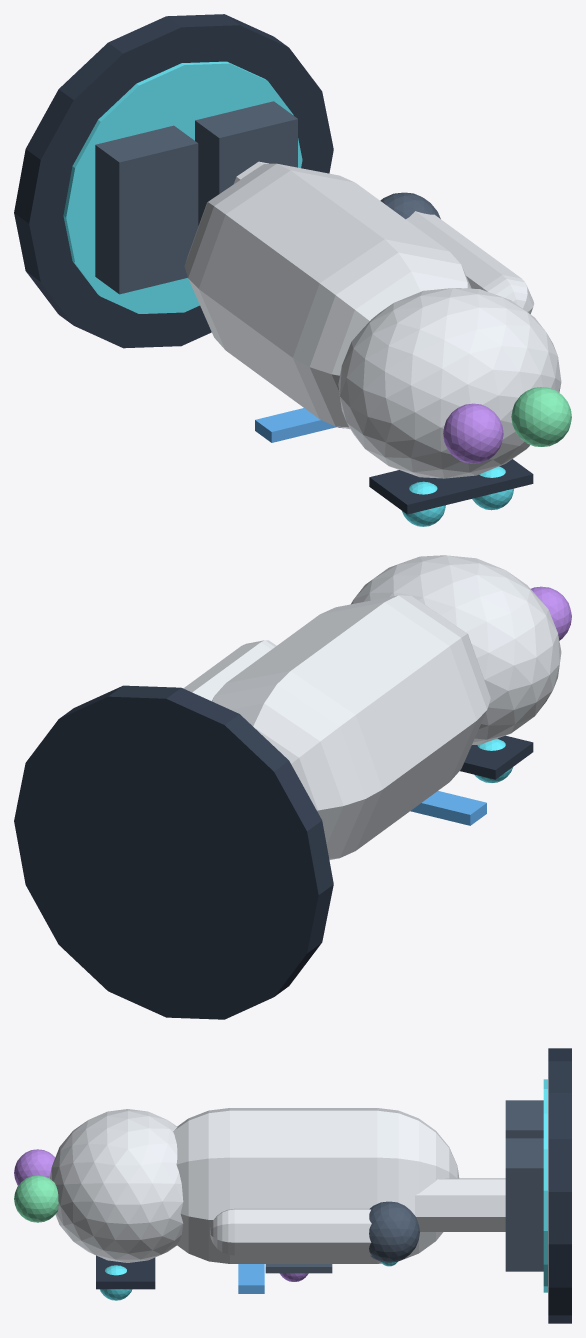
File: cybershield_robot_normal_2.glb
The picture shows the model from 3 angles, top to bottom: view 1: azimuth 30°, elevation 25°; view 2: azimuth 150°, elevation 25°; view 3: azimuth 270°, elevation 25°; orthographic projection. The views are drawn at different scales.
Parts seen in each view (by area): view 1: torso, stable_base, head, left_foot, base_glow, right_foot, face_panel, arm, head_crest_left, head_crest_right, shoulder_panel, hand (+2 smaller); view 2: stable_base, torso, head, arm, face_panel, shoulder_panel, head_crest_left; view 3: torso, head, arm, stable_base, right_foot, leg, hand, head_crest_right, face_panel, left_foot, base_glow, head_crest_left (+3 smaller).
Part boxes in pixels (<box>): torso: <box>184,163,471,429</box>; stable_base: <box>14,14,333,348</box>; head: <box>338,288,561,478</box>; left_foot: <box>95,125,198,294</box>; base_glow: <box>63,61,302,313</box>; right_foot: <box>195,101,297,225</box>; face_panel: <box>369,459,533,514</box>; arm: <box>406,211,534,313</box>; head_crest_left: <box>443,403,503,463</box>; head_crest_right: <box>511,387,571,446</box>; shoulder_panel: <box>255,408,336,442</box>; hand: <box>380,192,440,219</box>; stable_base: <box>14,685,333,1019</box>; torso: <box>212,595,490,859</box>; head: <box>351,555,561,744</box>; arm: <box>183,640,276,701</box>; face_panel: <box>460,735,533,779</box>; shoulder_panel: <box>410,791,486,825</box>; head_crest_left: <box>531,586,571,640</box>; torso: <box>173,1108,459,1263</box>; head: <box>50,1109,183,1262</box>; arm: <box>210,1208,371,1255</box>; stable_base: <box>548,1048,571,1323</box>; right_foot: <box>505,1138,543,1271</box>; leg: <box>415,1178,505,1231</box>; hand: <box>369,1201,419,1262</box>; head_crest_right: <box>14,1175,58,1222</box>; face_panel: <box>96,1255,155,1289</box>; left_foot: <box>505,1100,543,1138</box>; base_glow: <box>543,1079,547,1292</box>; head_crest_left: <box>14,1149,55,1185</box>.
Bounding box in the file's own units: 1.17 × 1.16 × 2.35.
